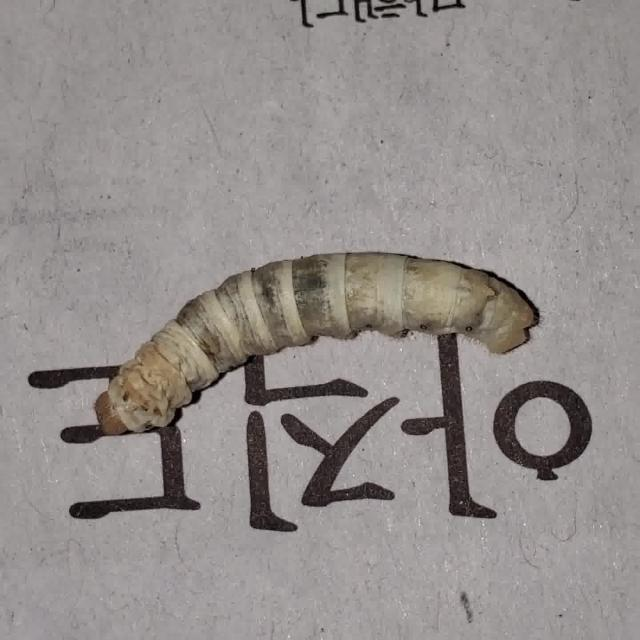Grasserie: (89, 209, 558, 460)
